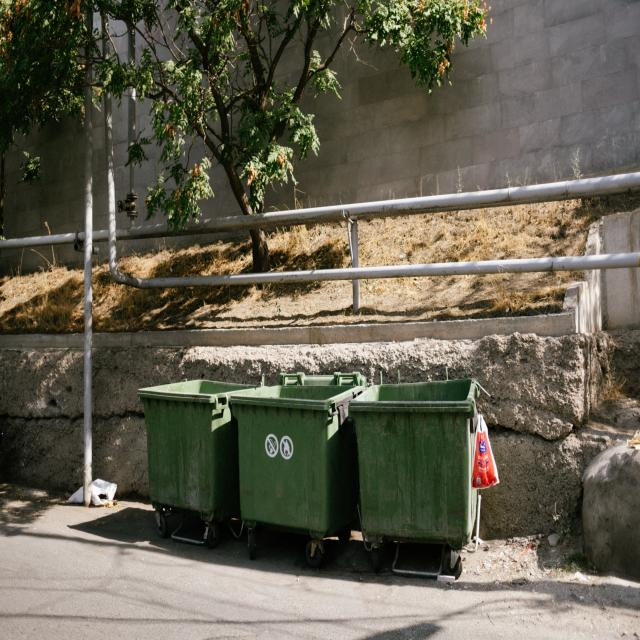trash: (473, 433, 496, 489)
